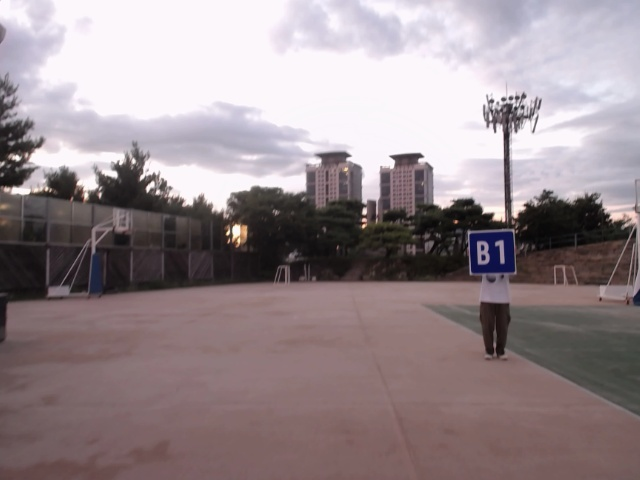delivery_b1: (469, 230, 516, 274)
